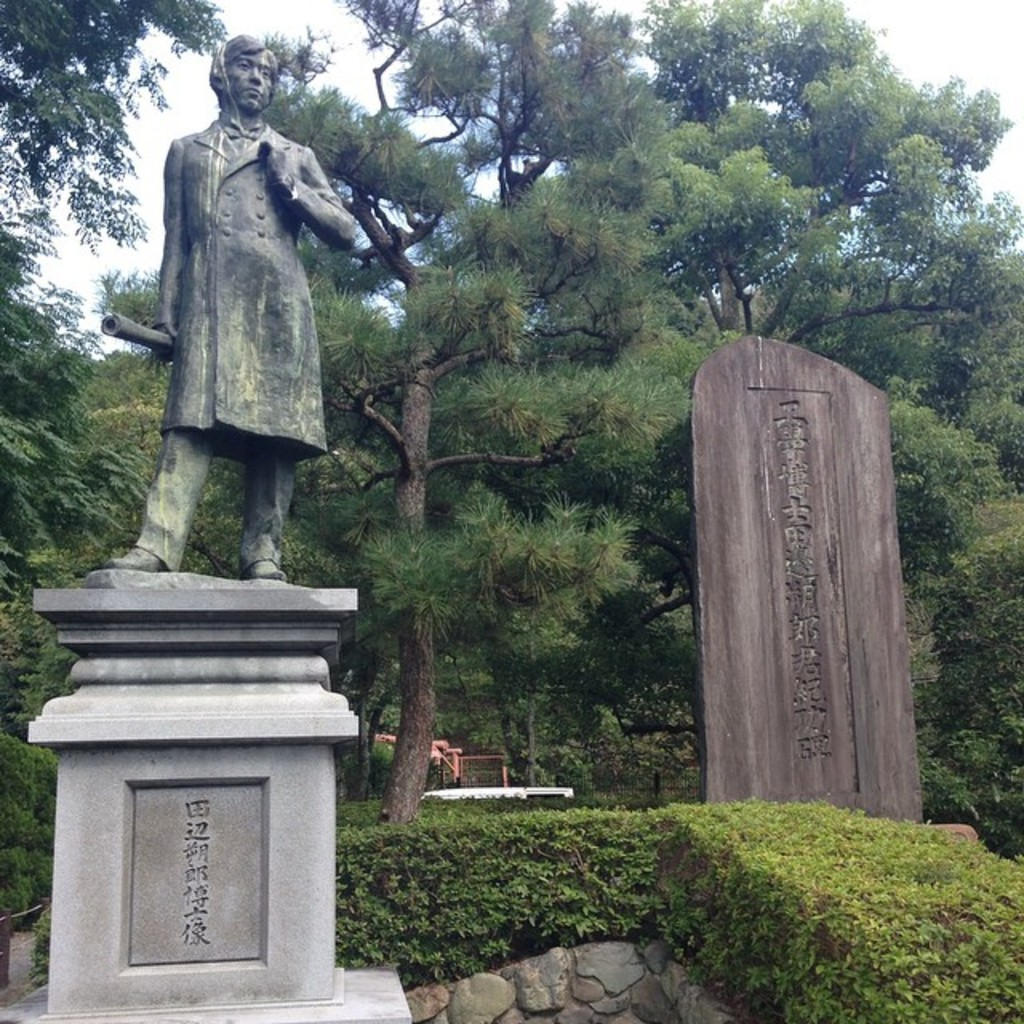Person: (100, 34, 355, 578)
